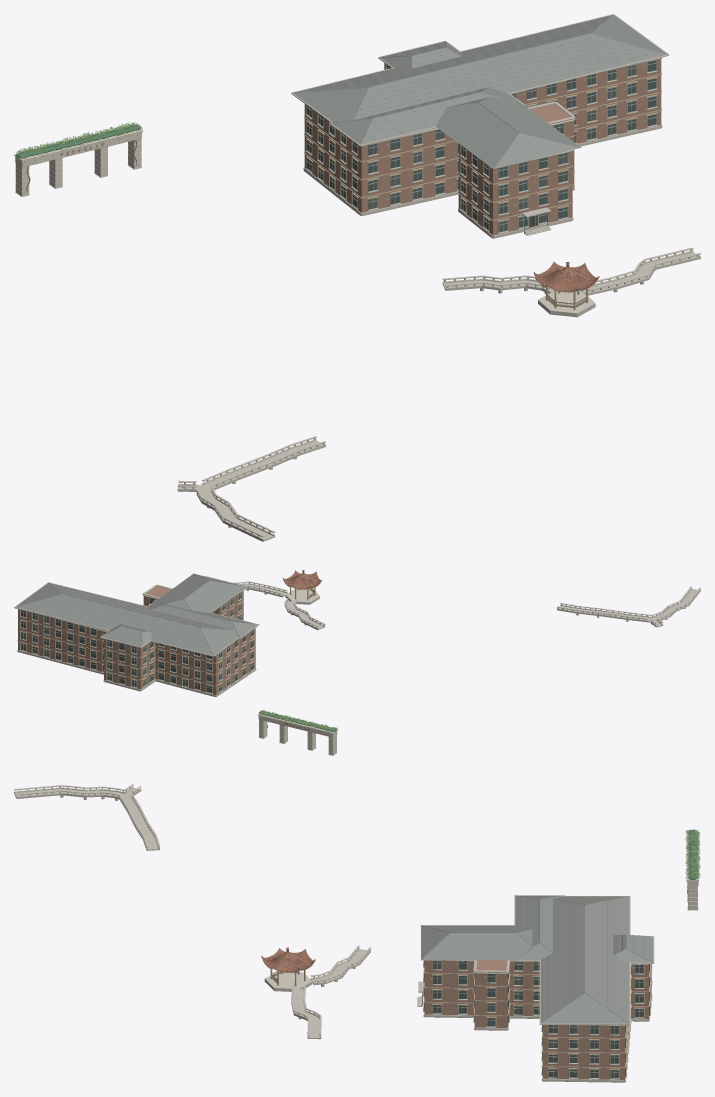
File: north_axis_architecture.glb
3 renders of one model, top to bottom at view 1: azimuth 30°, elevation 25°; view 2: azimuth 150°, elevation 25°; view 3: azimuth 270°, elevation 25°, orthographic. The views are drawn at different scales.
Visible parts, largest first — view 1: NorthExpert_NorthRoofTile, NorthExpert_NorthExpertBrick, NorthBridges_Stone, NorthExpert_NorthBrickPale, NorthExpert_Glass, NorthExpert_Stone, NorthExpert_Frame, NorthGate_NorthGateIvory, NorthExpert_GlassLight, NorthPavilion_PavilionRoof, NorthGateVine_LeafDark; view 2: NorthExpert_NorthRoofTile, NorthExpert_NorthExpertBrick, NorthExpert_NorthBrickPale, NorthExpert_Glass, NorthBridges_Stone, NorthExpert_Stone, NorthExpert_Frame, NorthGate_NorthGateIvory, NorthExpert_GlassLight, NorthPavilion_PavilionRoof, NorthGateVine_LeafDark; view 3: NorthExpert_NorthRoofTile, NorthExpert_NorthExpertBrick, NorthBridges_Stone, NorthExpert_NorthBrickPale, NorthExpert_Stone, NorthExpert_Glass, NorthExpert_Frame, NorthPavilion_PavilionRoof, NorthGateVine_LeafDark, NorthExpert_GlassLight, NorthPavilion_NorthSoffit, NorthPavilionRoofSurface_PavilionRoof.
Boxes of the visible parts, <box> form: NorthExpert_NorthRoofTile: <box>292,14,668,168</box>; NorthExpert_NorthExpertBrick: <box>304,59,661,235</box>; NorthBridges_Stone: <box>177,247,700,541</box>; NorthExpert_NorthBrickPale: <box>304,60,662,233</box>; NorthExpert_Glass: <box>307,60,655,229</box>; NorthExpert_Stone: <box>291,14,669,238</box>; NorthExpert_Frame: <box>306,60,656,232</box>; NorthGate_NorthGateIvory: <box>14,129,143,195</box>; NorthExpert_GlassLight: <box>318,65,635,232</box>; NorthPavilion_PavilionRoof: <box>534,262,599,292</box>; NorthGateVine_LeafDark: <box>15,122,142,161</box>; NorthExpert_NorthRoofTile: <box>15,573,258,655</box>; NorthExpert_NorthExpertBrick: <box>18,586,255,694</box>; NorthExpert_NorthBrickPale: <box>17,592,255,693</box>; NorthExpert_Glass: <box>21,592,253,692</box>; NorthBridges_Stone: <box>205,576,700,630</box>; NorthExpert_Stone: <box>14,582,259,696</box>; NorthExpert_Frame: <box>20,592,253,693</box>; NorthGate_NorthGateIvory: <box>258,714,337,755</box>; NorthExpert_GlassLight: <box>21,603,253,687</box>; NorthPavilion_PavilionRoof: <box>283,570,321,589</box>; NorthGateVine_LeafDark: <box>259,710,337,731</box>; NorthExpert_NorthRoofTile: <box>421,895,653,1023</box>; NorthExpert_NorthExpertBrick: <box>424,960,649,1079</box>; NorthBridges_Stone: <box>14,784,370,1039</box>; NorthExpert_NorthBrickPale: <box>423,960,651,1078</box>; NorthExpert_Stone: <box>417,895,654,1082</box>; NorthExpert_Glass: <box>433,961,643,1077</box>; NorthExpert_Frame: <box>433,960,643,1078</box>; NorthPavilion_PavilionRoof: <box>261,947,315,972</box>; NorthGateVine_LeafDark: <box>685,829,700,880</box>; NorthExpert_GlassLight: <box>433,961,618,1078</box>; NorthPavilion_NorthSoffit: <box>266,972,310,988</box>; NorthPavilionRoofSurface_PavilionRoof: <box>262,949,313,971</box>.
Size of the model in its own units: 134 by 15.99 by 132.
